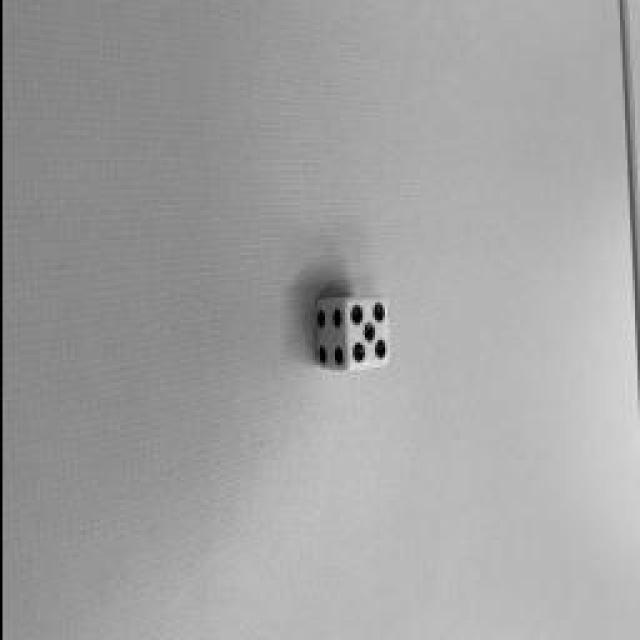dice_5: (344, 296, 386, 369)
